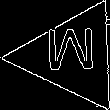M_S: (45, 30, 99, 82)
